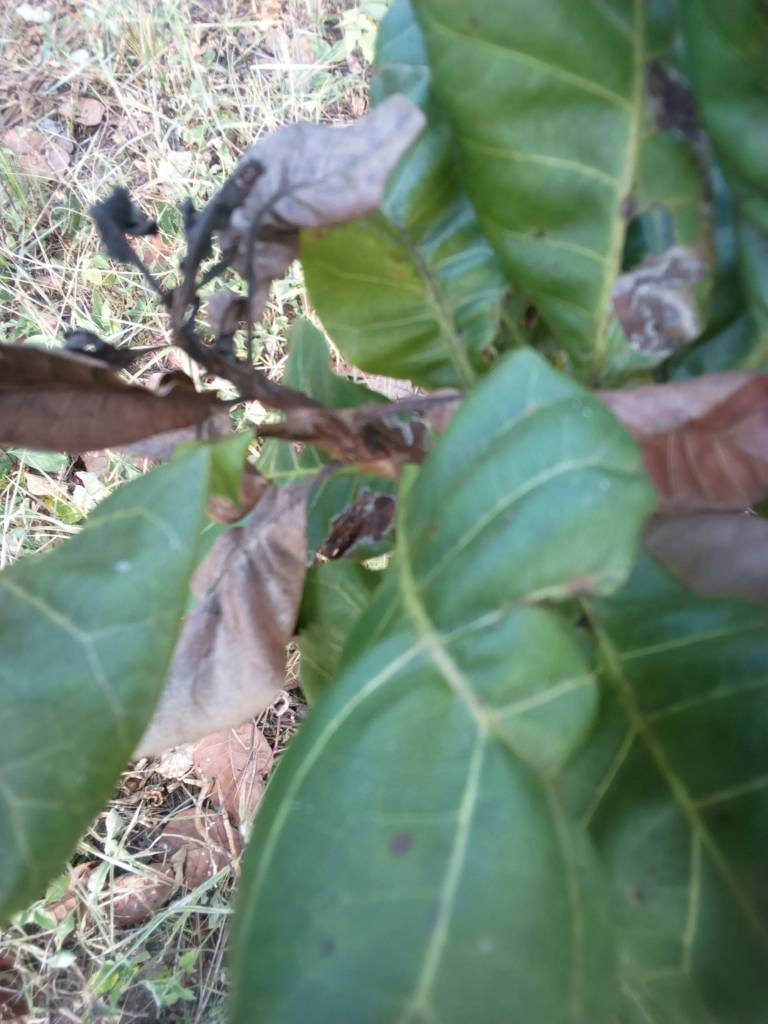Dessèchement des bourgeons: (11, 153, 281, 445), (271, 392, 458, 474)
